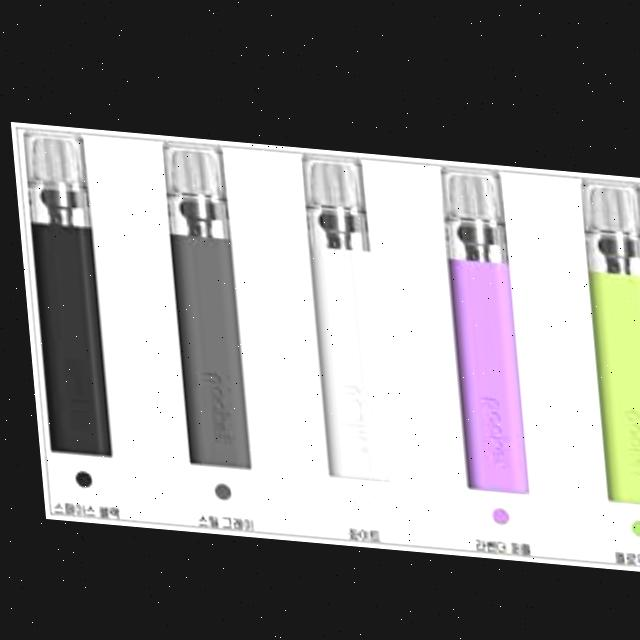vape: (297, 148, 386, 477), (157, 137, 244, 468), (19, 128, 105, 456), (436, 156, 521, 486), (577, 166, 640, 496)
